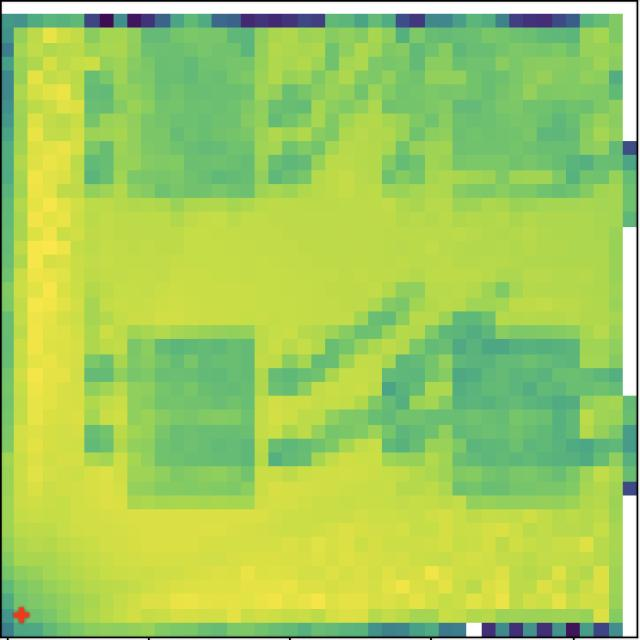Concrete: (446, 319, 588, 508)
Glass: (123, 333, 257, 505)
Metal: (447, 33, 596, 200)
Wood: (112, 31, 259, 198)
